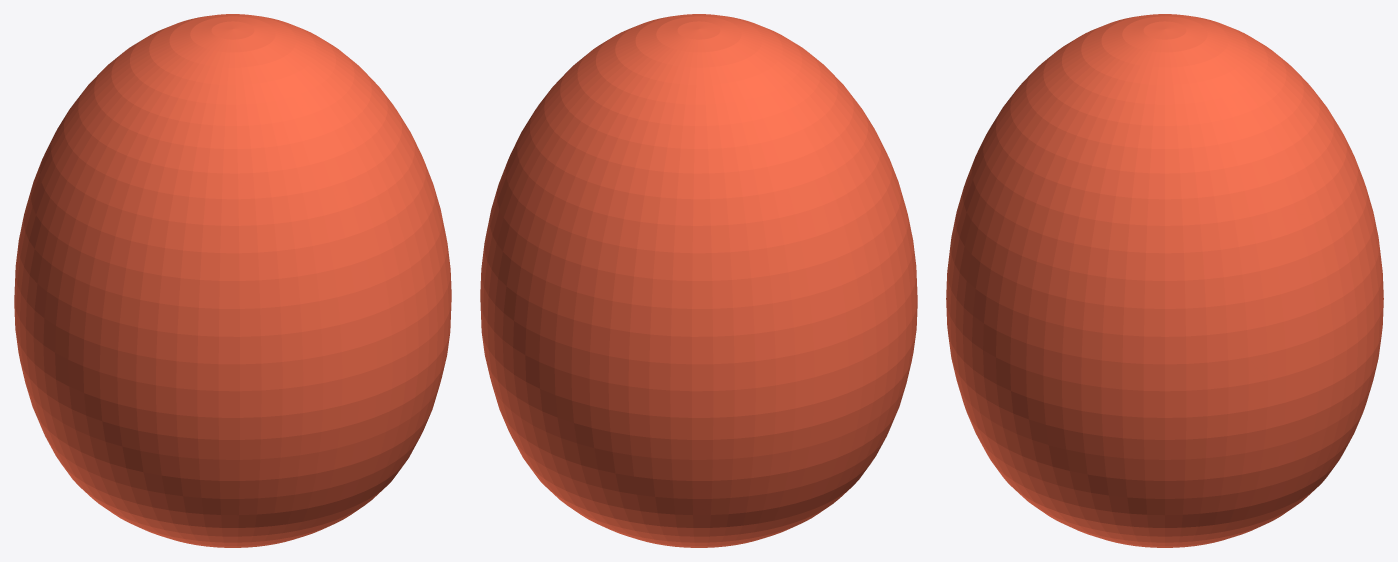
The model's file is precursor_orb.fbx.
3 renders of one model, left to right at view 1: azimuth 30°, elevation 25°; view 2: azimuth 150°, elevation 25°; view 3: azimuth 270°, elevation 25°, orthographic.
Parts seen in each view (by area): view 1: Sphere; view 2: Sphere; view 3: Sphere.
Part boxes in pixels (left/top/right/bottom): Sphere: left=14, top=14, right=451, bottom=547; Sphere: left=480, top=14, right=917, bottom=547; Sphere: left=946, top=14, right=1383, bottom=547.
Bounding box in the file's own units: 100 × 124 × 100.
